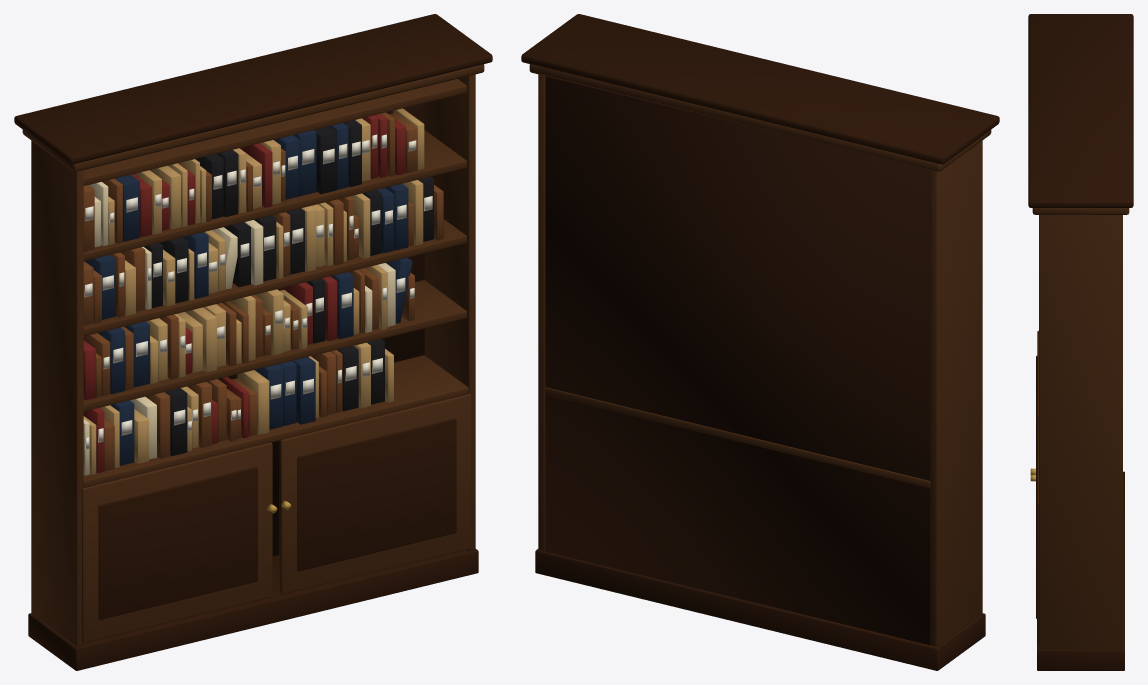
Rendered from frank_bookcase_A.glb.
The picture shows the model from 3 angles, left to right: view 1: azimuth 30°, elevation 25°; view 2: azimuth 150°, elevation 25°; view 3: azimuth 270°, elevation 25°; orthographic projection. The views are drawn at different scales.
Parts seen in each view (by area): view 1: Bookcase_Walnut, Bookcase_WalnutDark, Bookcase_BookTan, Bookcase_BookBrown, Bookcase_BinderNavy, Bookcase_BinderBlack, Bookcase_Label, Bookcase_BookOxblood, Bookcase_BookCream, Bookcase_BackPanel; view 2: Bookcase_BackPanel, Bookcase_WalnutDark, Bookcase_Walnut; view 3: Bookcase_Walnut, Bookcase_WalnutDark.
Part boxes in pixels (<box>): Bookcase_Walnut: <box>22,64,484,646</box>; Bookcase_WalnutDark: <box>14,14,492,670</box>; Bookcase_BookTan: <box>83,108,424,474</box>; Bookcase_BookBrown: <box>83,112,443,471</box>; Bookcase_BinderNavy: <box>84,123,412,465</box>; Bookcase_BinderBlack: <box>144,120,433,456</box>; Bookcase_Label: <box>84,134,432,449</box>; Bookcase_BookOxblood: <box>83,113,405,473</box>; Bookcase_BookCream: <box>83,182,395,475</box>; Bookcase_BackPanel: <box>150,103,424,556</box>; Bookcase_BackPanel: <box>545,76,930,645</box>; Bookcase_WalnutDark: <box>521,14,999,670</box>; Bookcase_Walnut: <box>529,64,991,646</box>; Bookcase_Walnut: <box>1032,208,1129,649</box>; Bookcase_WalnutDark: <box>1028,14,1133,670</box>.
Bounding box in the file's own units: 2.12 × 2.49 × 0.5.
